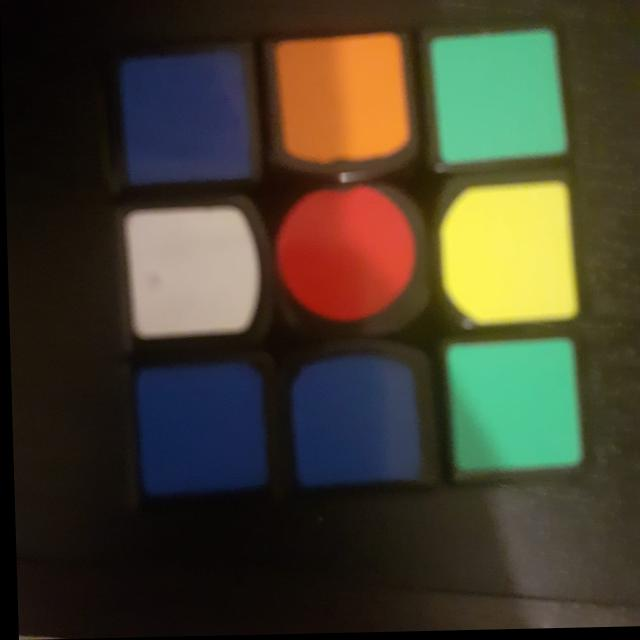Blue: (125, 359, 273, 502), (285, 350, 429, 494), (113, 56, 265, 188)
Green: (441, 342, 588, 482), (424, 36, 567, 167)
Orange: (271, 43, 410, 167)
Red: (271, 187, 419, 323)
White: (117, 207, 261, 341)
Yellow: (430, 190, 577, 329)
